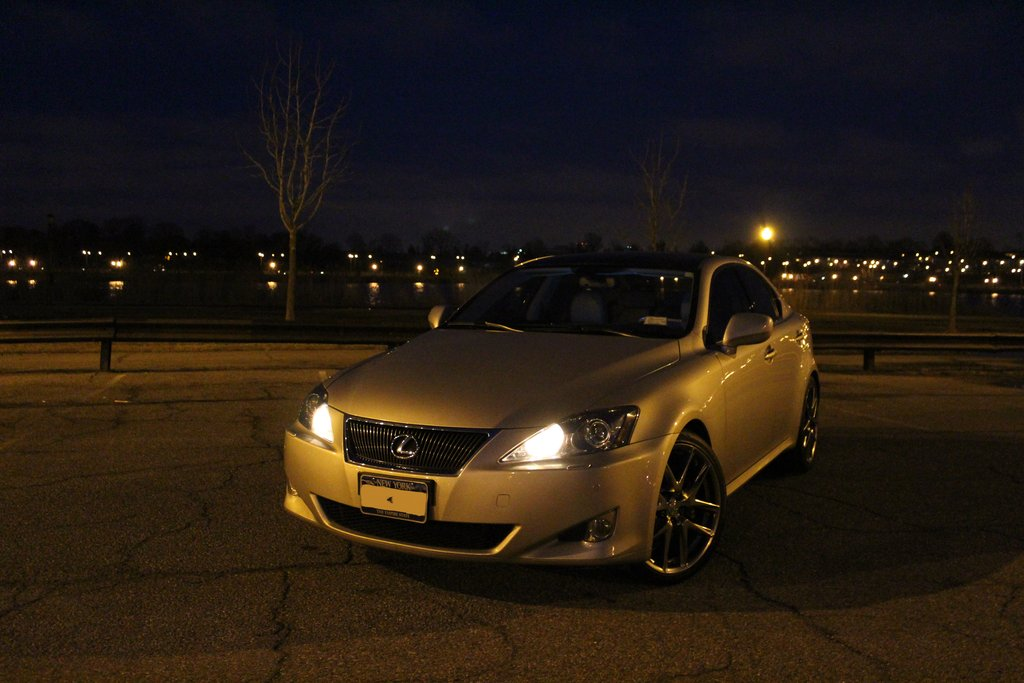car: (273, 244, 833, 592)
